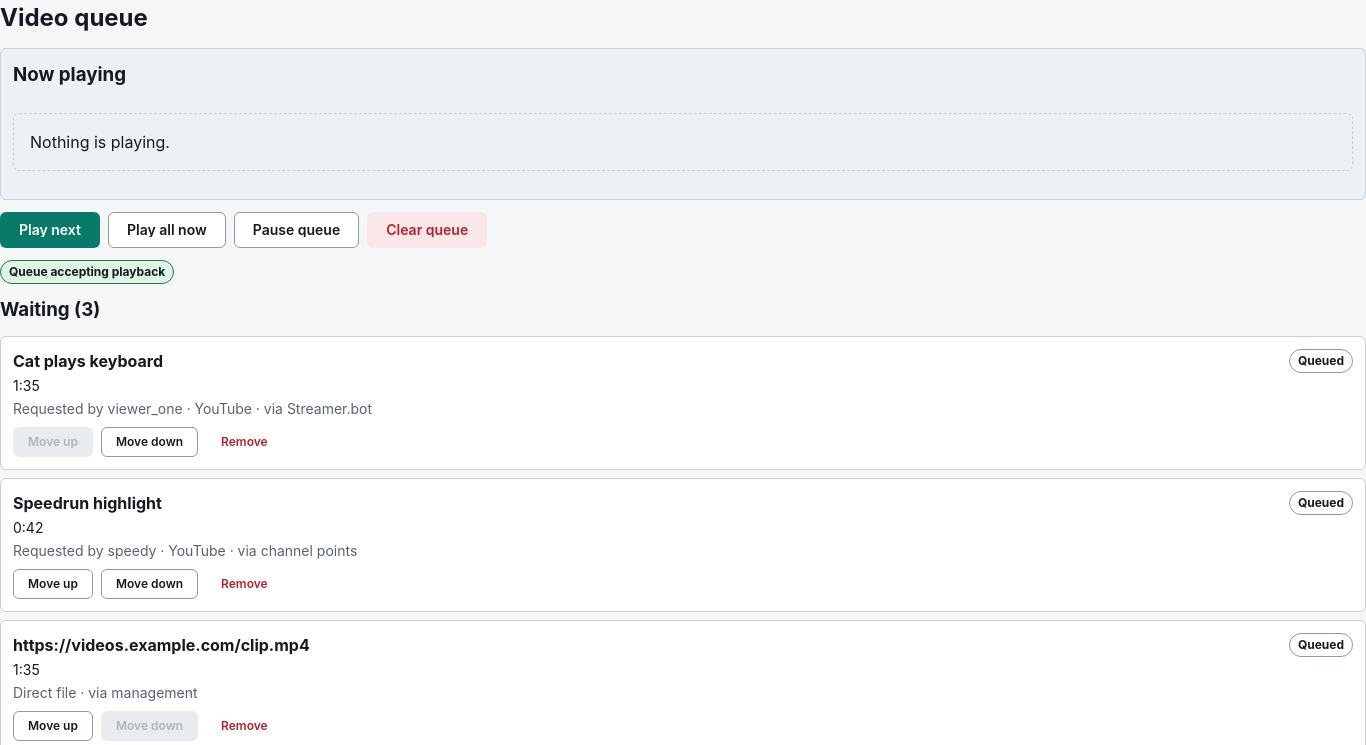
it: VideoQueuePanel › plays next and plays all with the observed revision
Click the button "Play next" at (50, 230), box [0, 212, 100, 248]
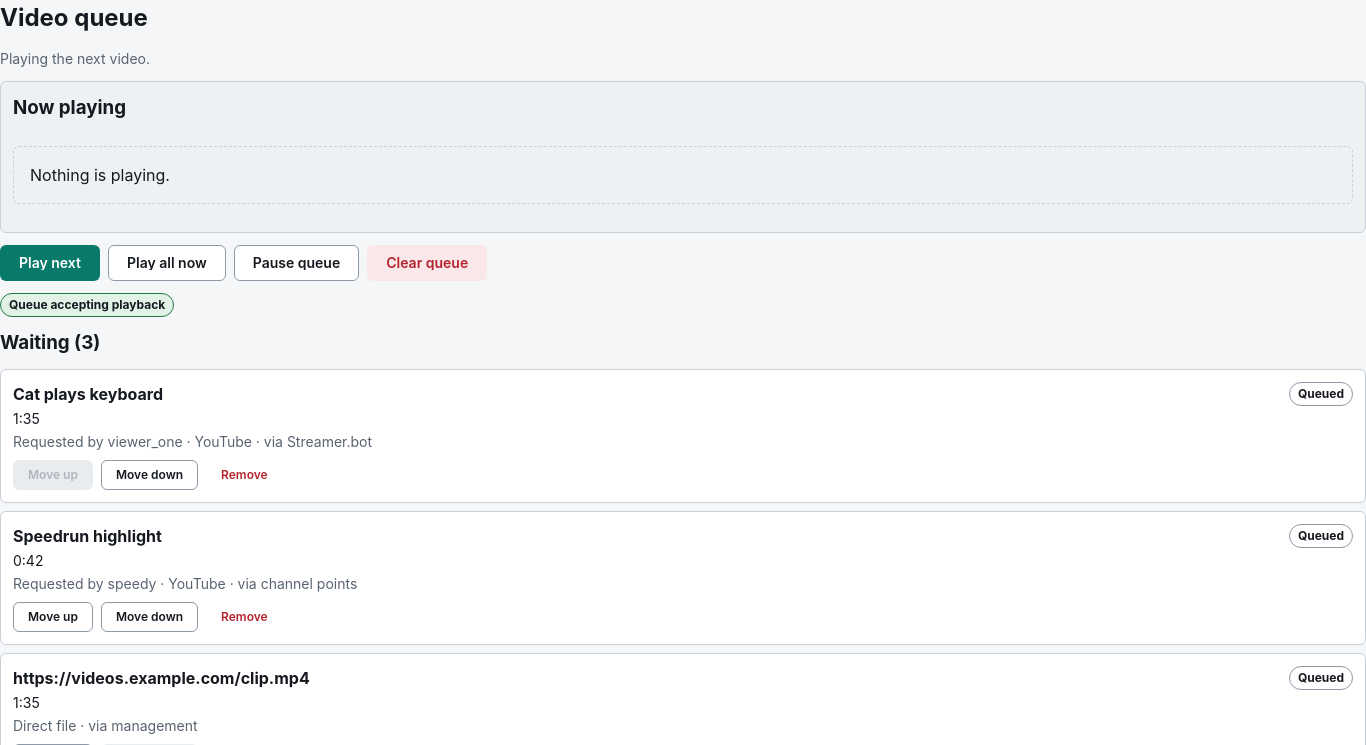
Check: the text "Playing the next video." is shown, box [0, 50, 150, 67]
Click the button "Play all now" at (167, 263), box [108, 245, 226, 281]
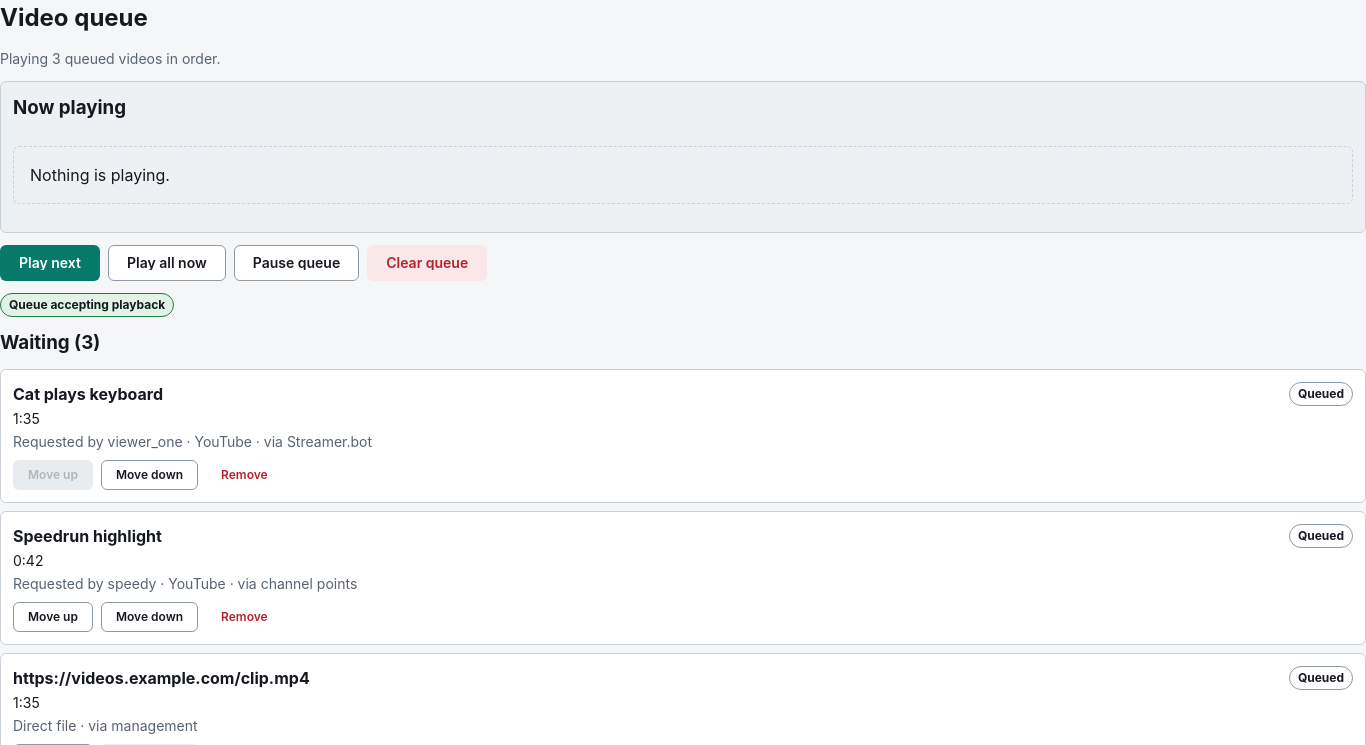
Check: the text "Playing 3 queued videos in order." is shown, box [0, 50, 220, 67]
